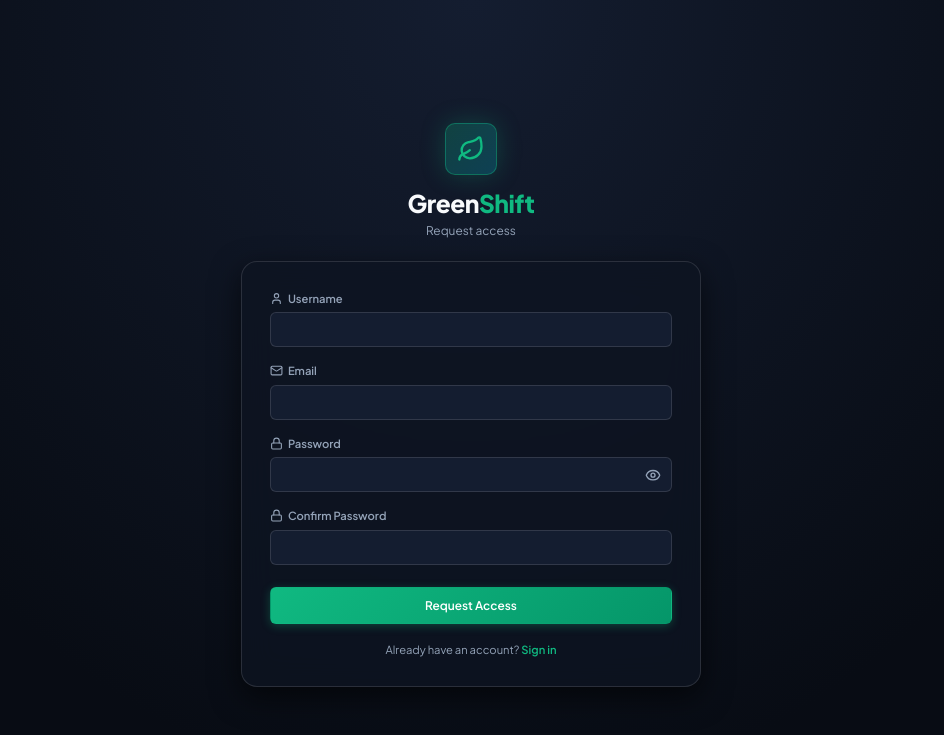
RequestAccessPage › surfaces a safe conflict message when the username/email is already taken
Type "new.hire" into the field labelled "Username" at (471, 330), box 270,312 -> 672,347
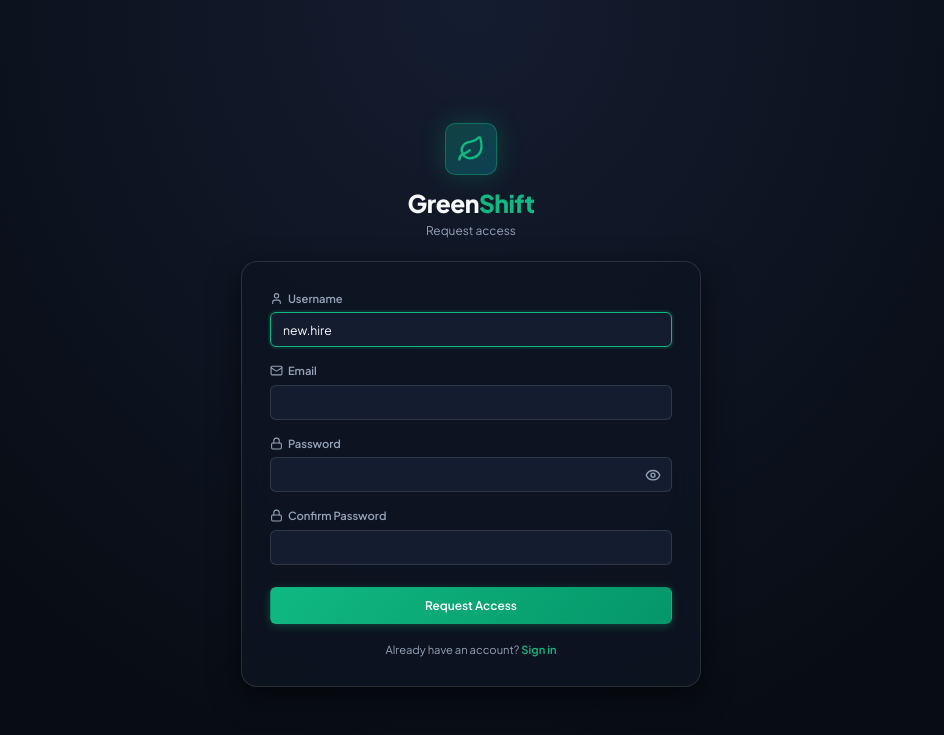
Type "new.hire@example.com" into the field labelled "Email" at (471, 402), box 270,385 -> 672,420
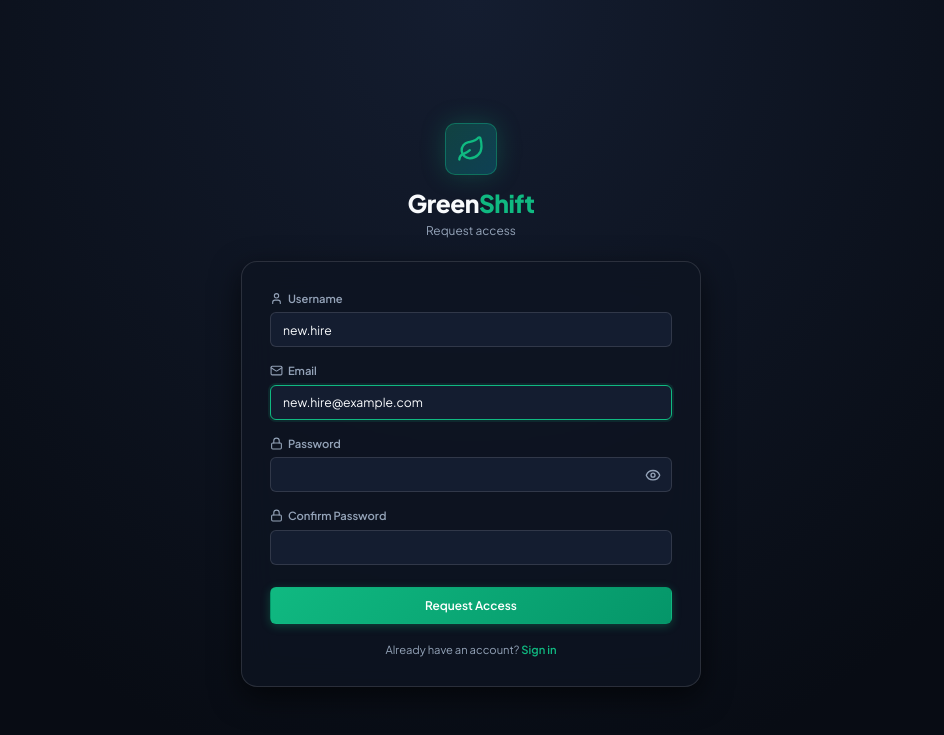
Type "secret6+" into the password field labelled "Password" at (471, 475), box 270,457 -> 672,492
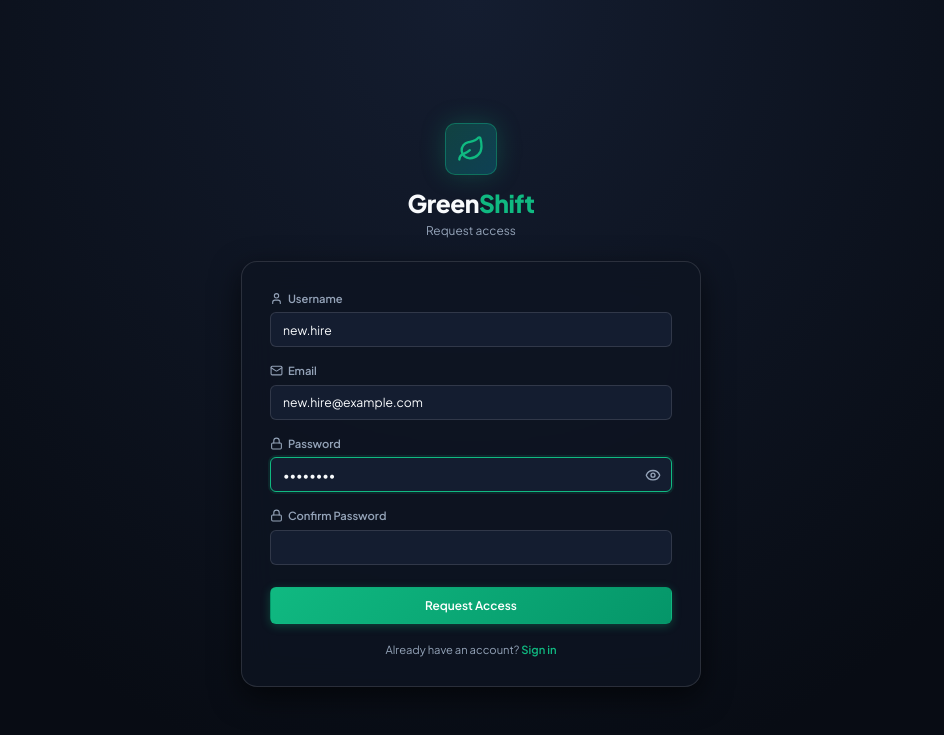
Type "secret6+" into the password field labelled "Confirm Password" at (471, 547), box 270,530 -> 672,565
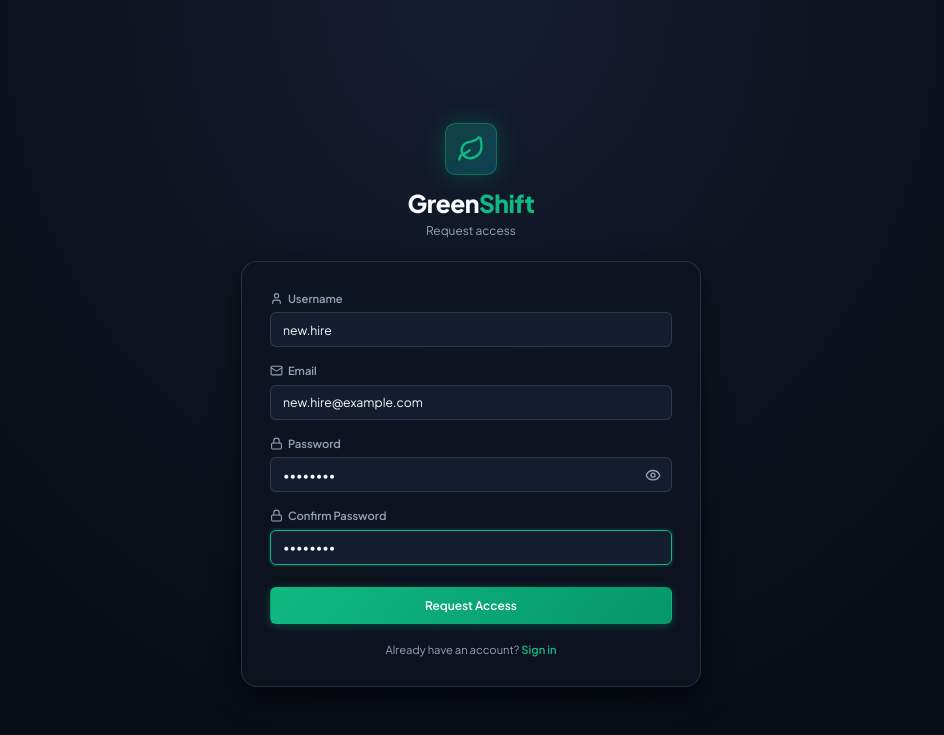
Click the button "Request Access" at (471, 605), box 270,587 -> 672,624
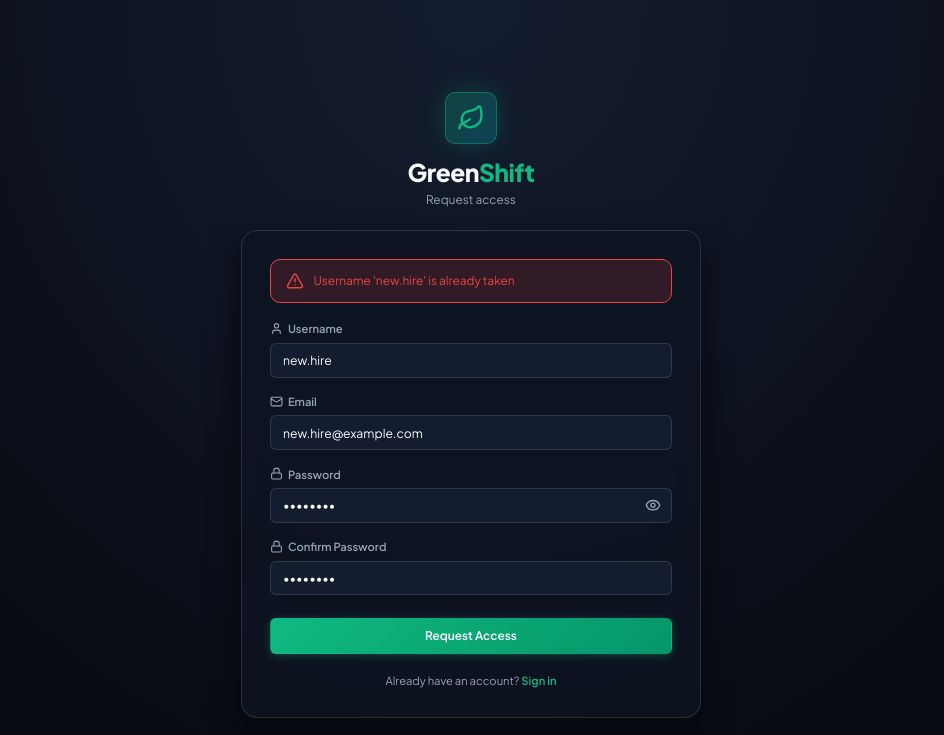
Expected: the text "Username 'new.hire' is already taken" is shown, 314,272 -> 515,290
